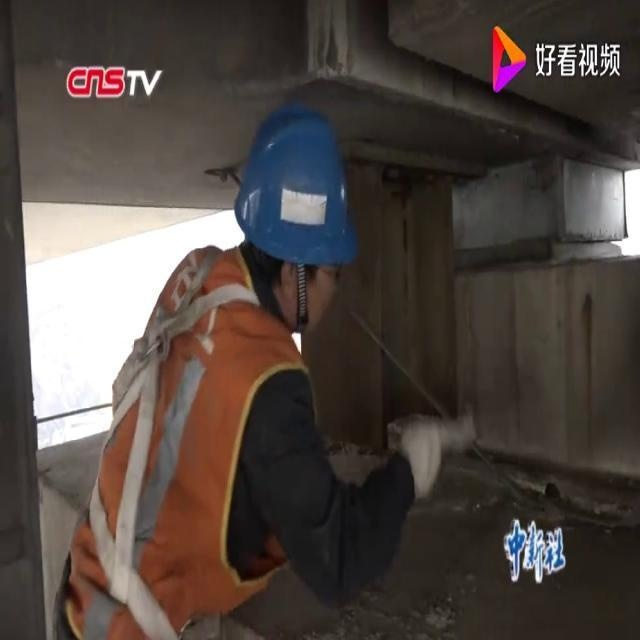Arnes_seguridad: (82, 227, 270, 639)
